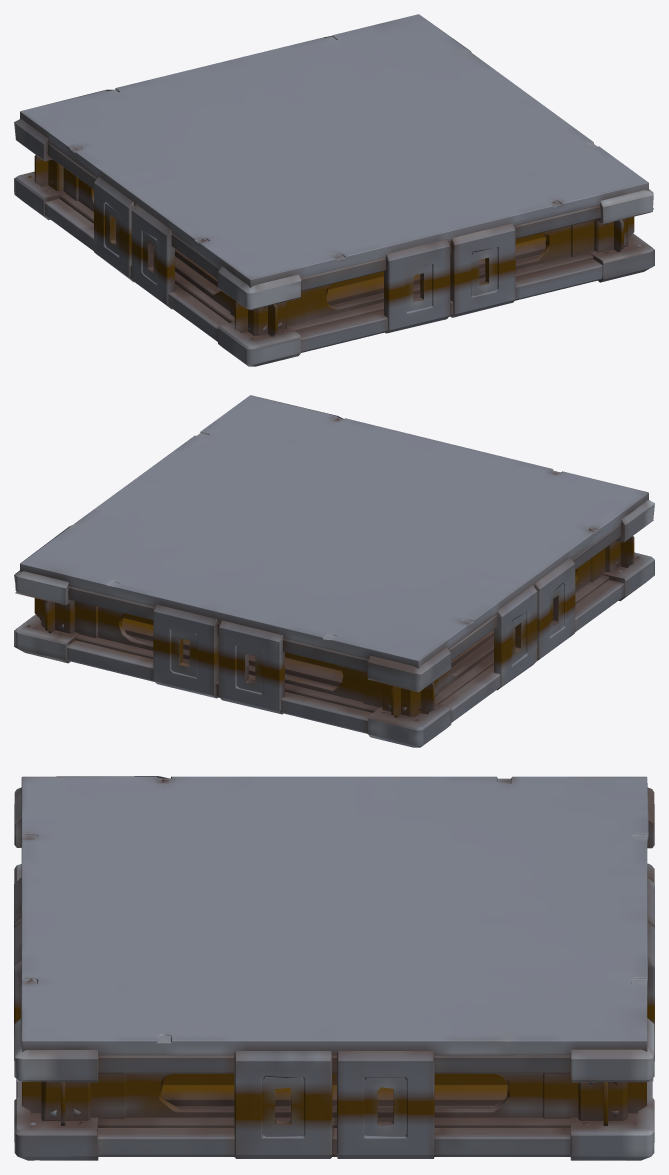
The model's file is Metal Quarter Ceiling.glb.
The picture shows the model from 3 angles, top to bottom: view 1: azimuth 30°, elevation 25°; view 2: azimuth 150°, elevation 25°; view 3: azimuth 270°, elevation 25°; orthographic projection. The views are drawn at different scales.
Visible parts, largest first — view 1: SM_Metal_CeilingQuarter; view 2: SM_Metal_CeilingQuarter; view 3: SM_Metal_CeilingQuarter.
Boxes of the visible parts, x1,y1,x2,y2 form: SM_Metal_CeilingQuarter: [14, 14, 654, 366]; SM_Metal_CeilingQuarter: [14, 395, 654, 747]; SM_Metal_CeilingQuarter: [14, 776, 654, 1160].
Size of the model in its own units: 1.54 by 0.3336 by 1.54.
Materials: 1 (1 with a texture image).
